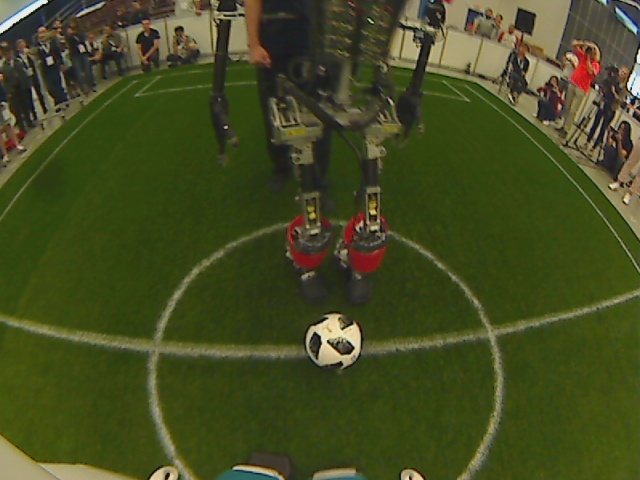ball: (302, 310, 365, 373)
